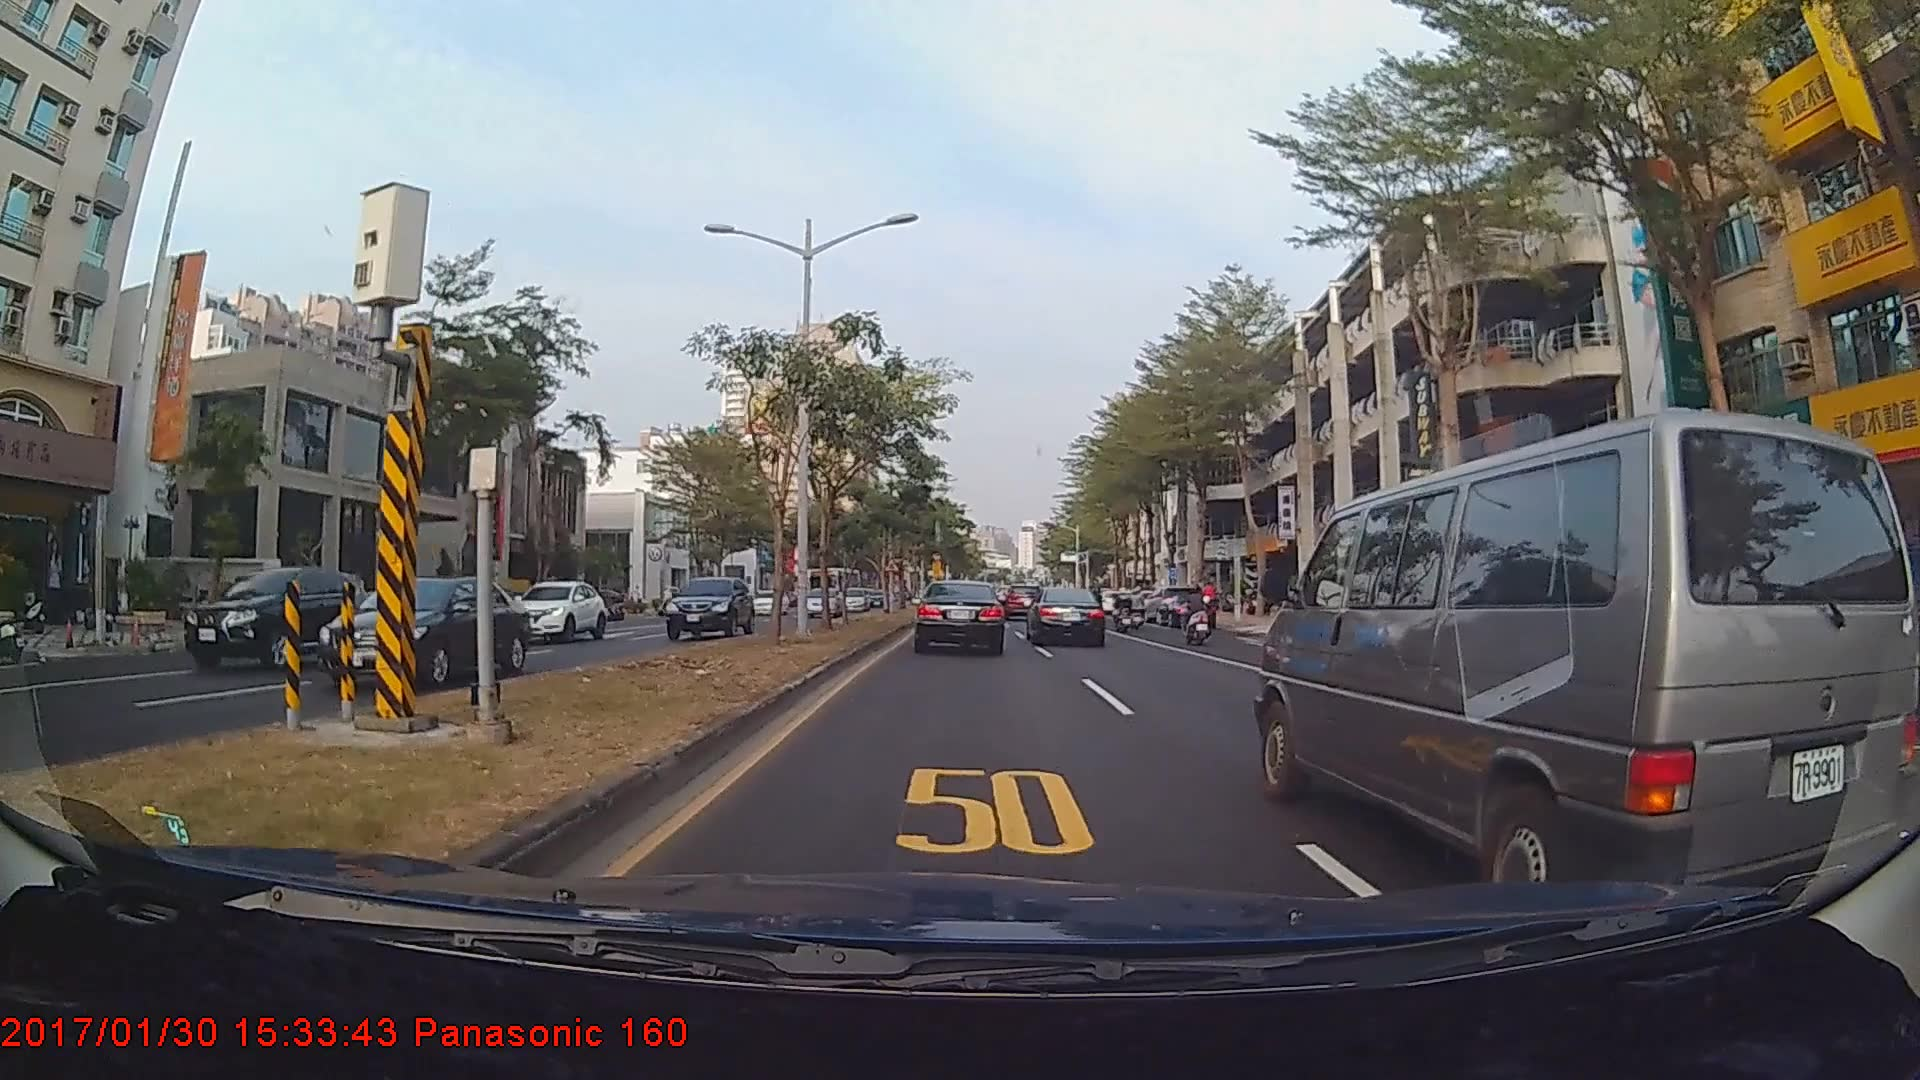rider: (1177, 580, 1216, 649)
vehicle: (1247, 403, 1890, 903), (314, 572, 537, 694), (180, 565, 373, 672), (915, 577, 1005, 654), (505, 578, 608, 642), (663, 574, 754, 639), (1027, 585, 1106, 647), (1152, 593, 1217, 630), (1003, 578, 1042, 612), (744, 587, 790, 615), (802, 588, 843, 619)
